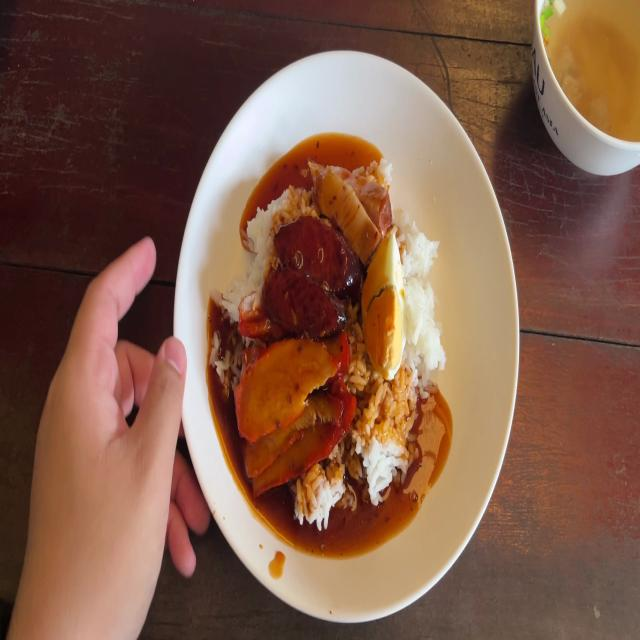01boiled_egg: (364, 236, 405, 376)
01chainese_sausage: (268, 216, 354, 340), (274, 216, 358, 278), (266, 287, 347, 337)
01crispy_pork: (310, 161, 392, 252)
01red_pork: (230, 345, 354, 479), (249, 396, 351, 484), (234, 341, 339, 405)
01red_pork_and_crispy_pork: (210, 156, 448, 528)
01rice: (354, 376, 417, 492), (406, 222, 444, 382)
